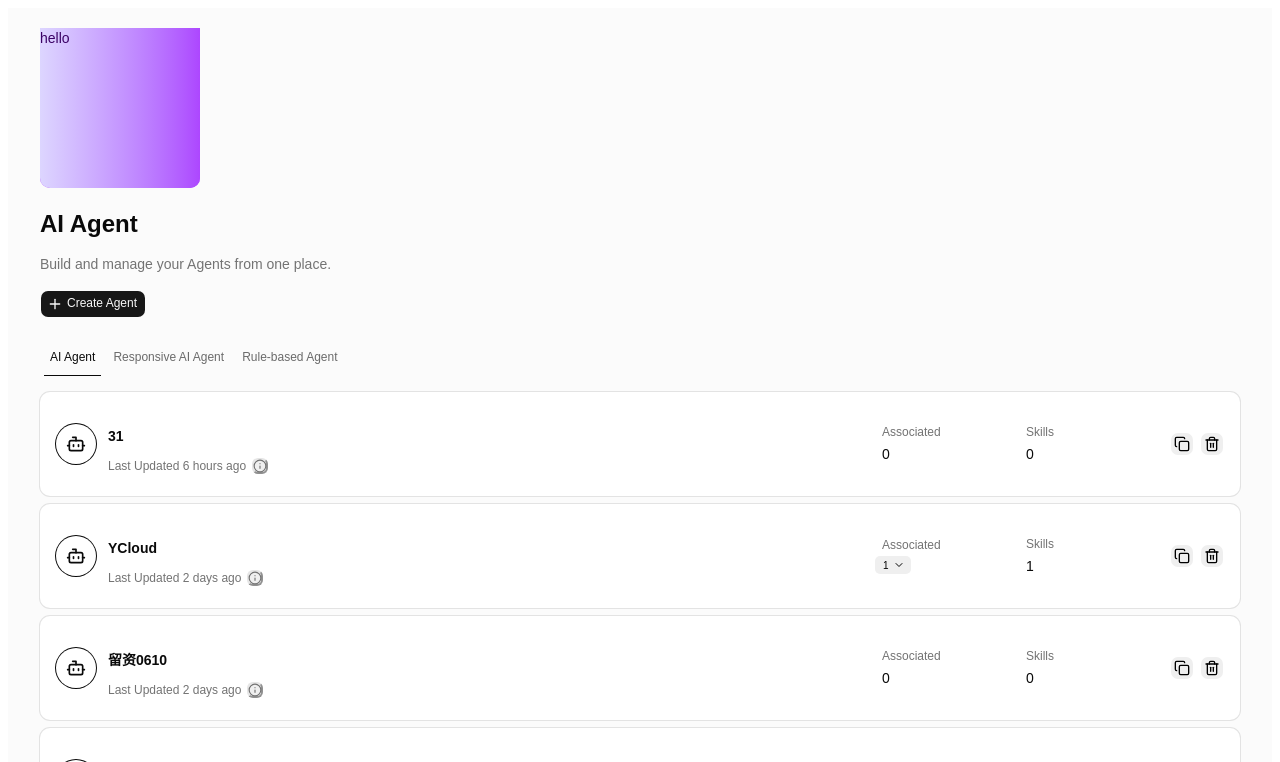
Test case: App › validates agent names before submitting the create form
This screenshot has width=1280, height=762.
Click the button "Create Agent" at (93, 304), box [40,290,146,318]
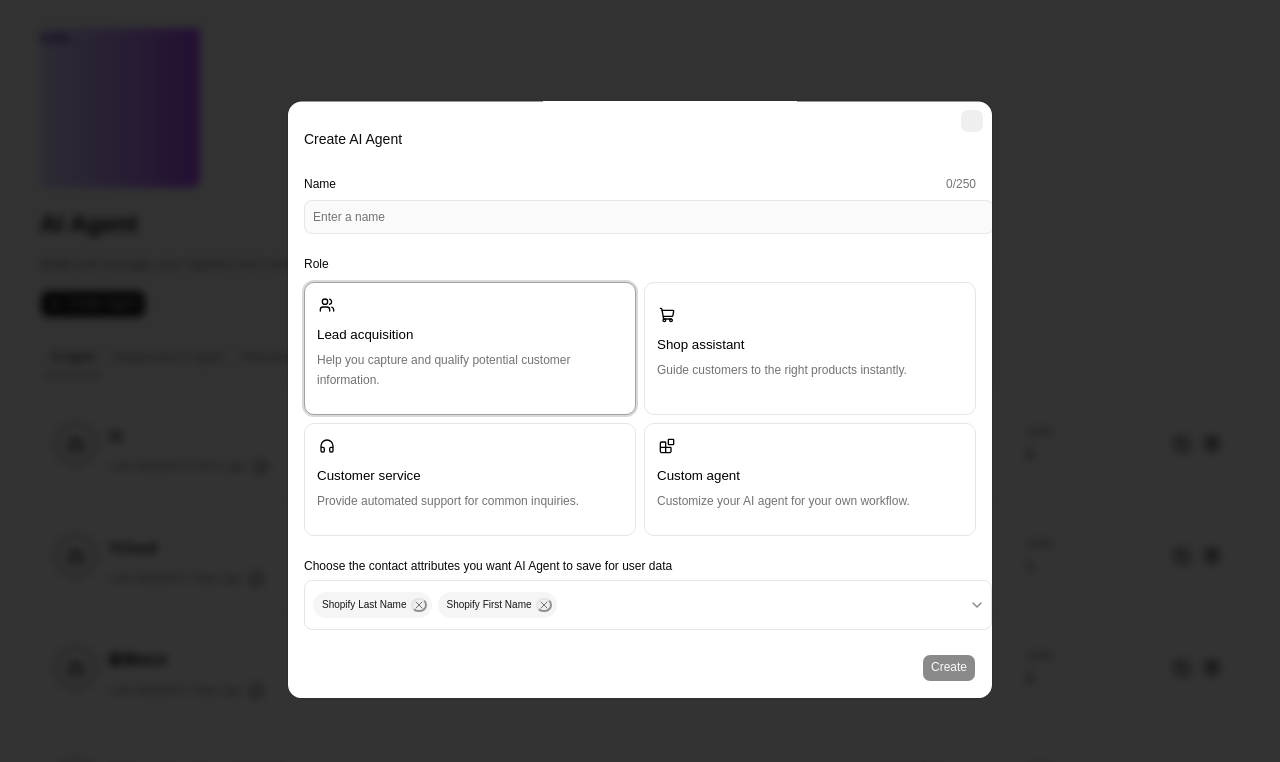
Type "中文 Agent-1" into the field labelled "Name" at (649, 218), box [304,201,994,235]
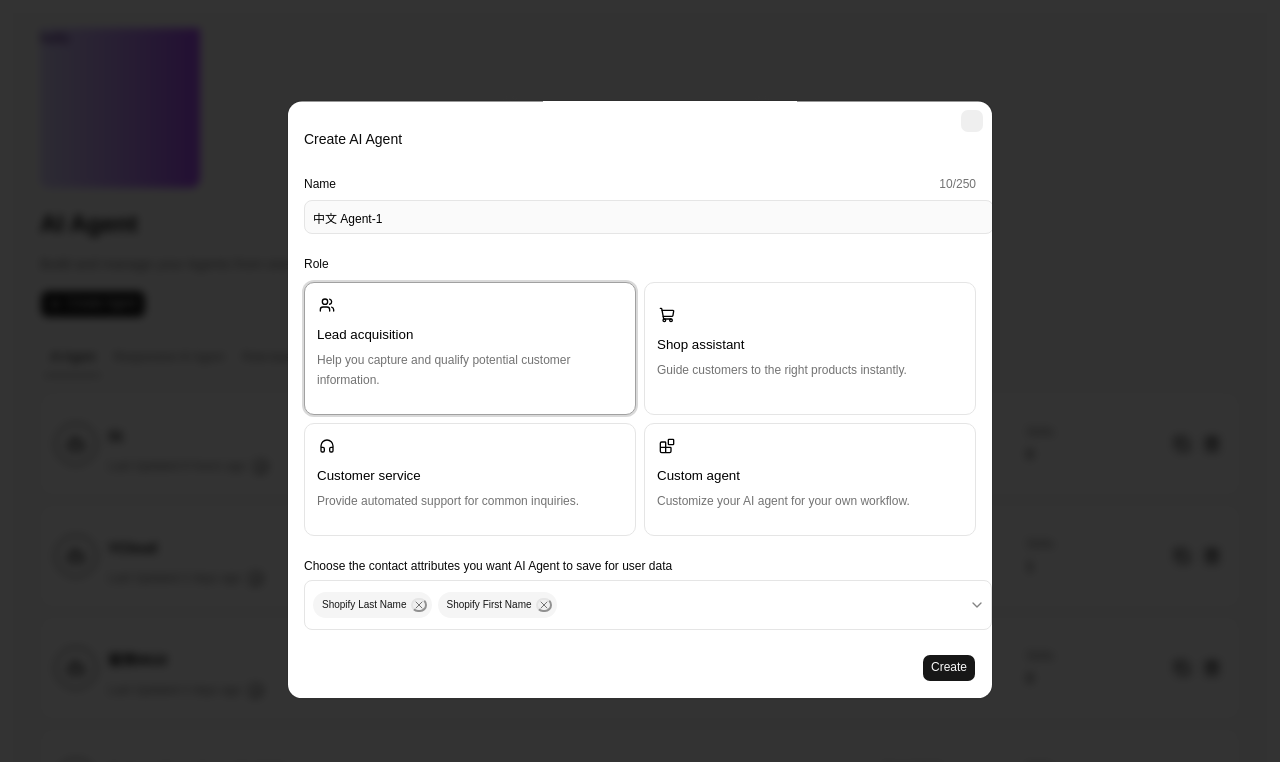
Click the button "Create" at (949, 669), box [922,655,976,683]
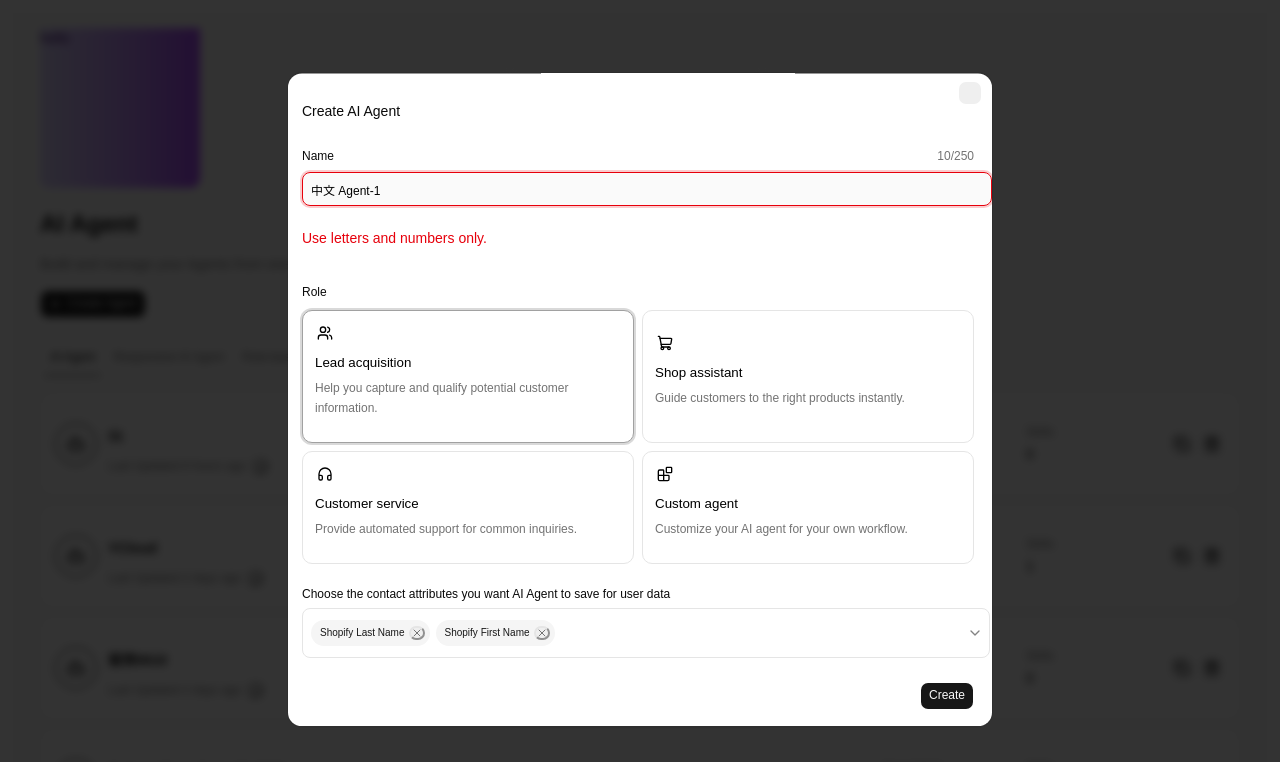
Expected: the dialog is shown, [288,73,992,727]
Expected: the text "Use letters and numbers only." is shown, [302,231,487,247]
